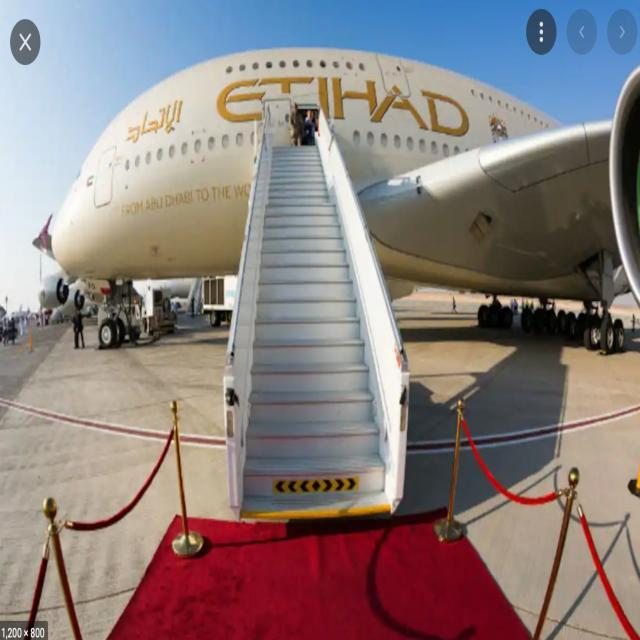Etihad Airways: (125, 75, 470, 144)
